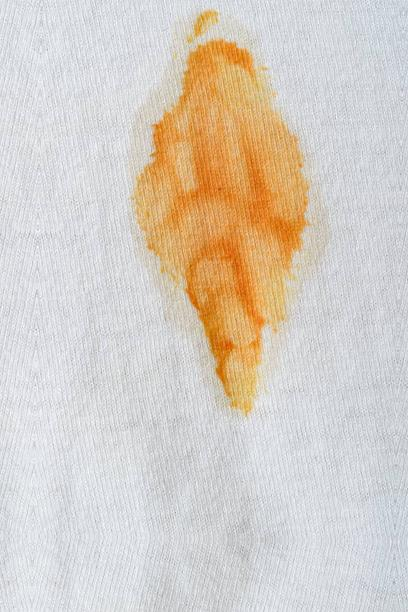stain: (129, 6, 323, 417)
